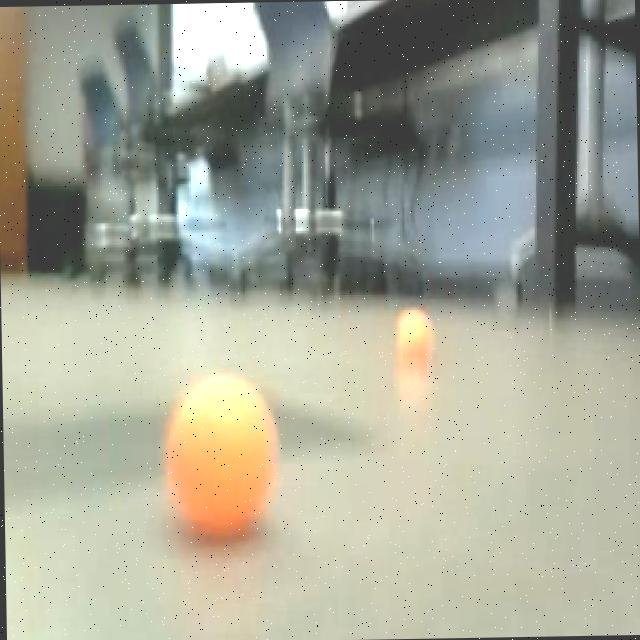ping-pong-ball: (154, 372, 284, 536), (387, 302, 434, 378)
